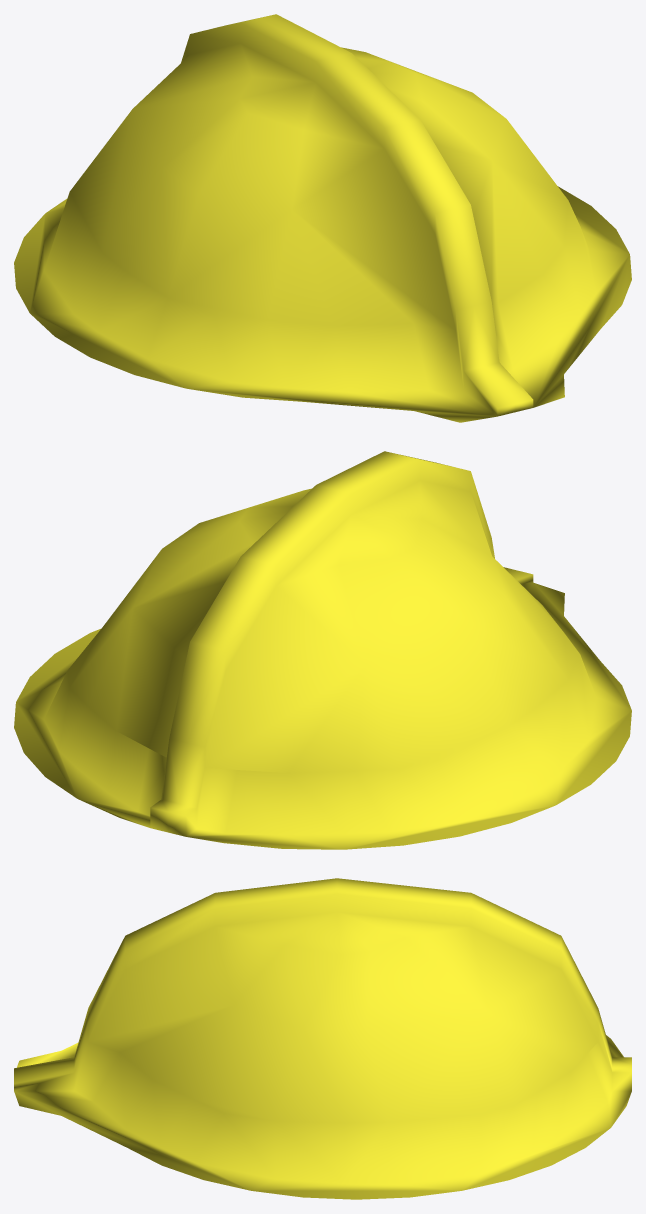
Rendered from Hardhat.glb.
The picture shows the model from 3 angles, top to bottom: view 1: azimuth 30°, elevation 25°; view 2: azimuth 150°, elevation 25°; view 3: azimuth 270°, elevation 25°; orthographic projection. The views are drawn at different scales.
Parts seen in each view (by area): view 1: Plane; view 2: Plane; view 3: Plane.
Boxes of the visible parts, x1,y1,x2,y2 form: Plane: [14, 14, 631, 422]; Plane: [14, 451, 631, 849]; Plane: [14, 878, 631, 1199].
Bounding box in the file's own units: 2 × 0.8083 × 2.24.
Materials: 1 (1 with a texture image).
